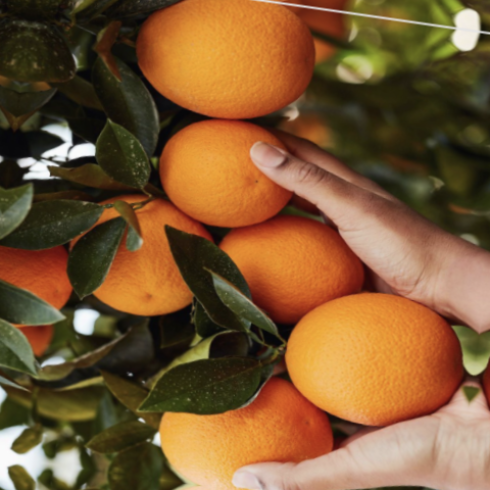orange: (270, 270, 470, 450), (113, 0, 325, 150), (133, 102, 309, 243)
